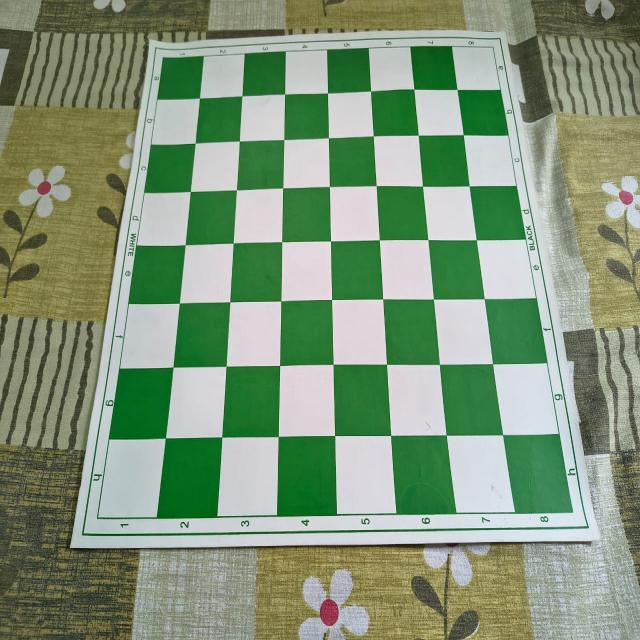square: (503, 434, 574, 514), (97, 439, 167, 518), (446, 435, 516, 514), (158, 437, 223, 517), (392, 436, 456, 514), (217, 437, 279, 517), (335, 435, 396, 515), (493, 362, 559, 435), (278, 436, 337, 516), (109, 367, 173, 440), (440, 365, 503, 436), (167, 367, 227, 438), (387, 365, 447, 436), (485, 298, 548, 365), (333, 365, 391, 436), (278, 365, 335, 437), (223, 367, 281, 437), (120, 303, 180, 369), (434, 299, 493, 365), (174, 302, 230, 368), (383, 300, 440, 364), (332, 299, 387, 365), (226, 301, 281, 367), (477, 239, 536, 300), (280, 300, 333, 366), (429, 240, 484, 300), (129, 246, 185, 304), (180, 243, 234, 303), (380, 240, 434, 299), (469, 185, 526, 240), (230, 242, 282, 302), (281, 241, 333, 301), (331, 241, 383, 300), (422, 186, 477, 241), (136, 193, 191, 247), (234, 188, 284, 244), (464, 135, 517, 187), (377, 186, 428, 240), (186, 191, 237, 245), (330, 186, 380, 241), (282, 187, 331, 242), (419, 135, 470, 187), (374, 136, 424, 188), (144, 143, 195, 193), (191, 141, 240, 193), (457, 90, 509, 136), (237, 140, 284, 190), (283, 139, 330, 189), (329, 137, 376, 187), (414, 90, 464, 136), (195, 96, 242, 143), (371, 90, 418, 137), (151, 98, 199, 144), (328, 91, 374, 139), (452, 46, 501, 91), (240, 94, 285, 141), (410, 46, 458, 90), (200, 54, 245, 99), (327, 48, 371, 94), (157, 56, 204, 99), (285, 93, 328, 140), (369, 48, 414, 92), (242, 51, 286, 95), (286, 51, 329, 95)
